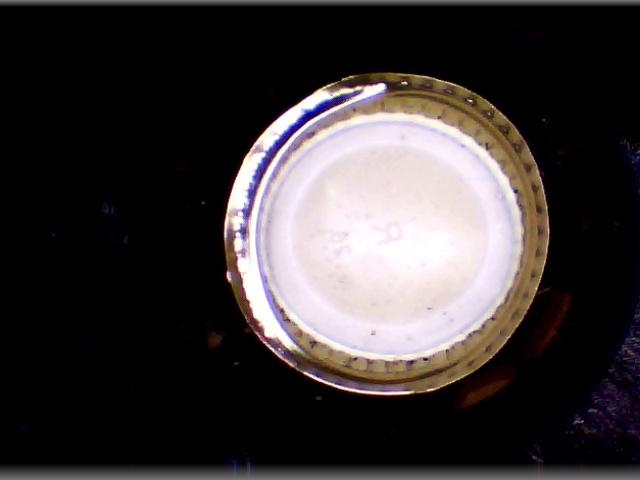capsule: (213, 61, 562, 407)
